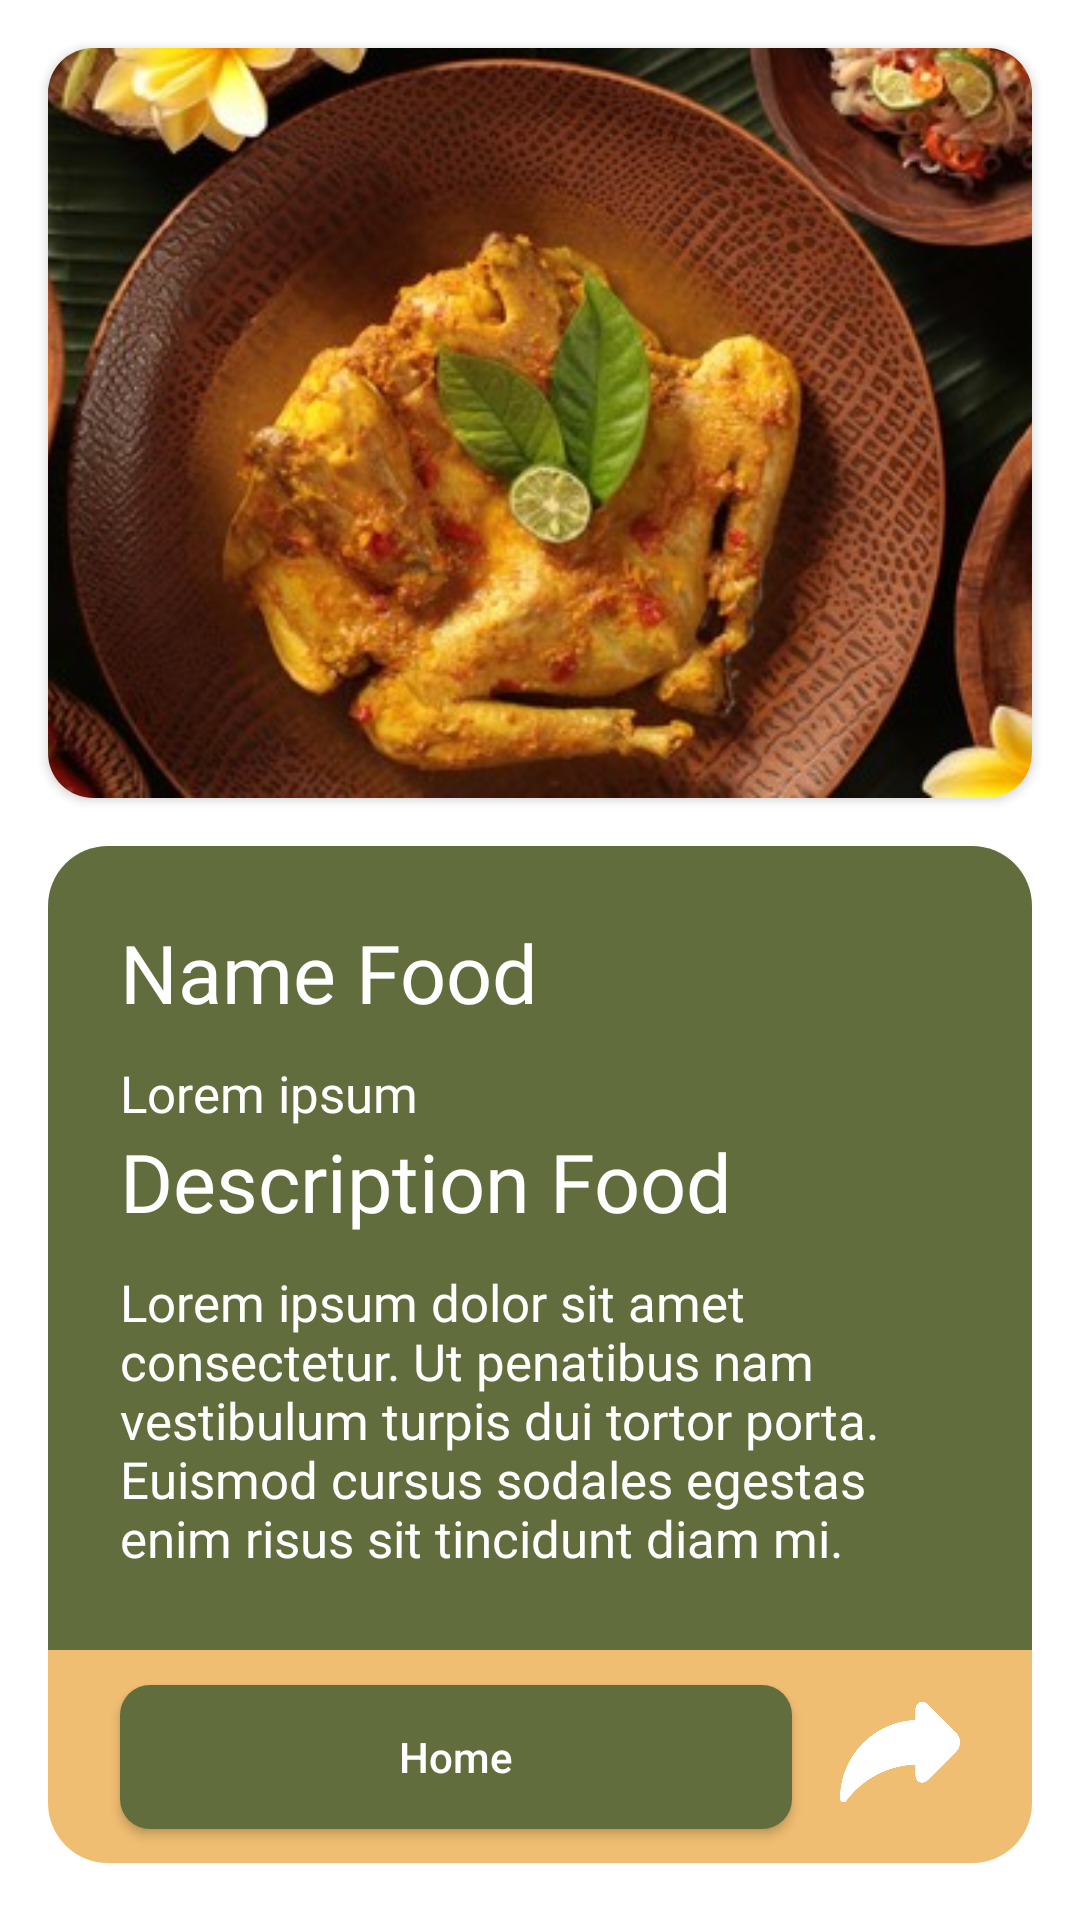

Where to tap for icons on this 1080*1920 app screen, as [x,y]:
share: [900,1752]
